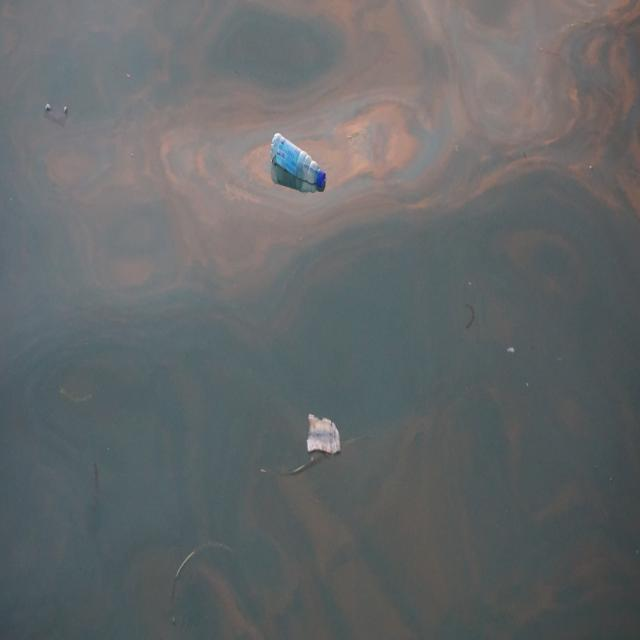Botol Plastik: (266, 131, 334, 206)
Bungkus Makanan: (302, 411, 347, 466)
